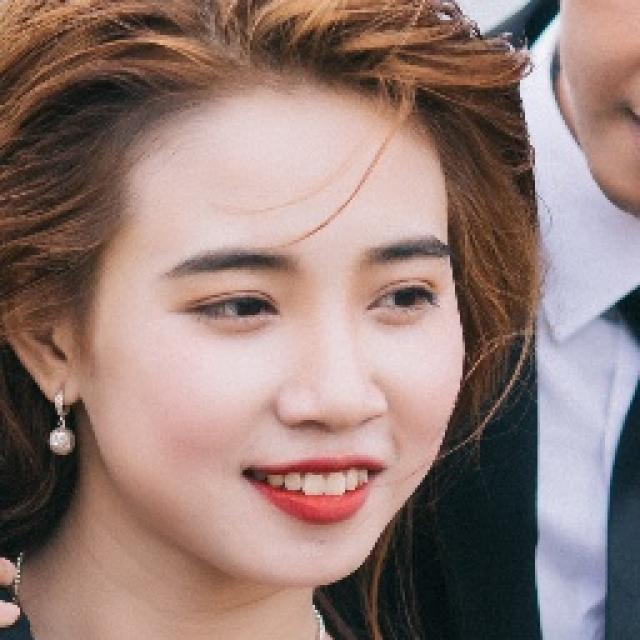earlobe: (1, 288, 87, 411)
